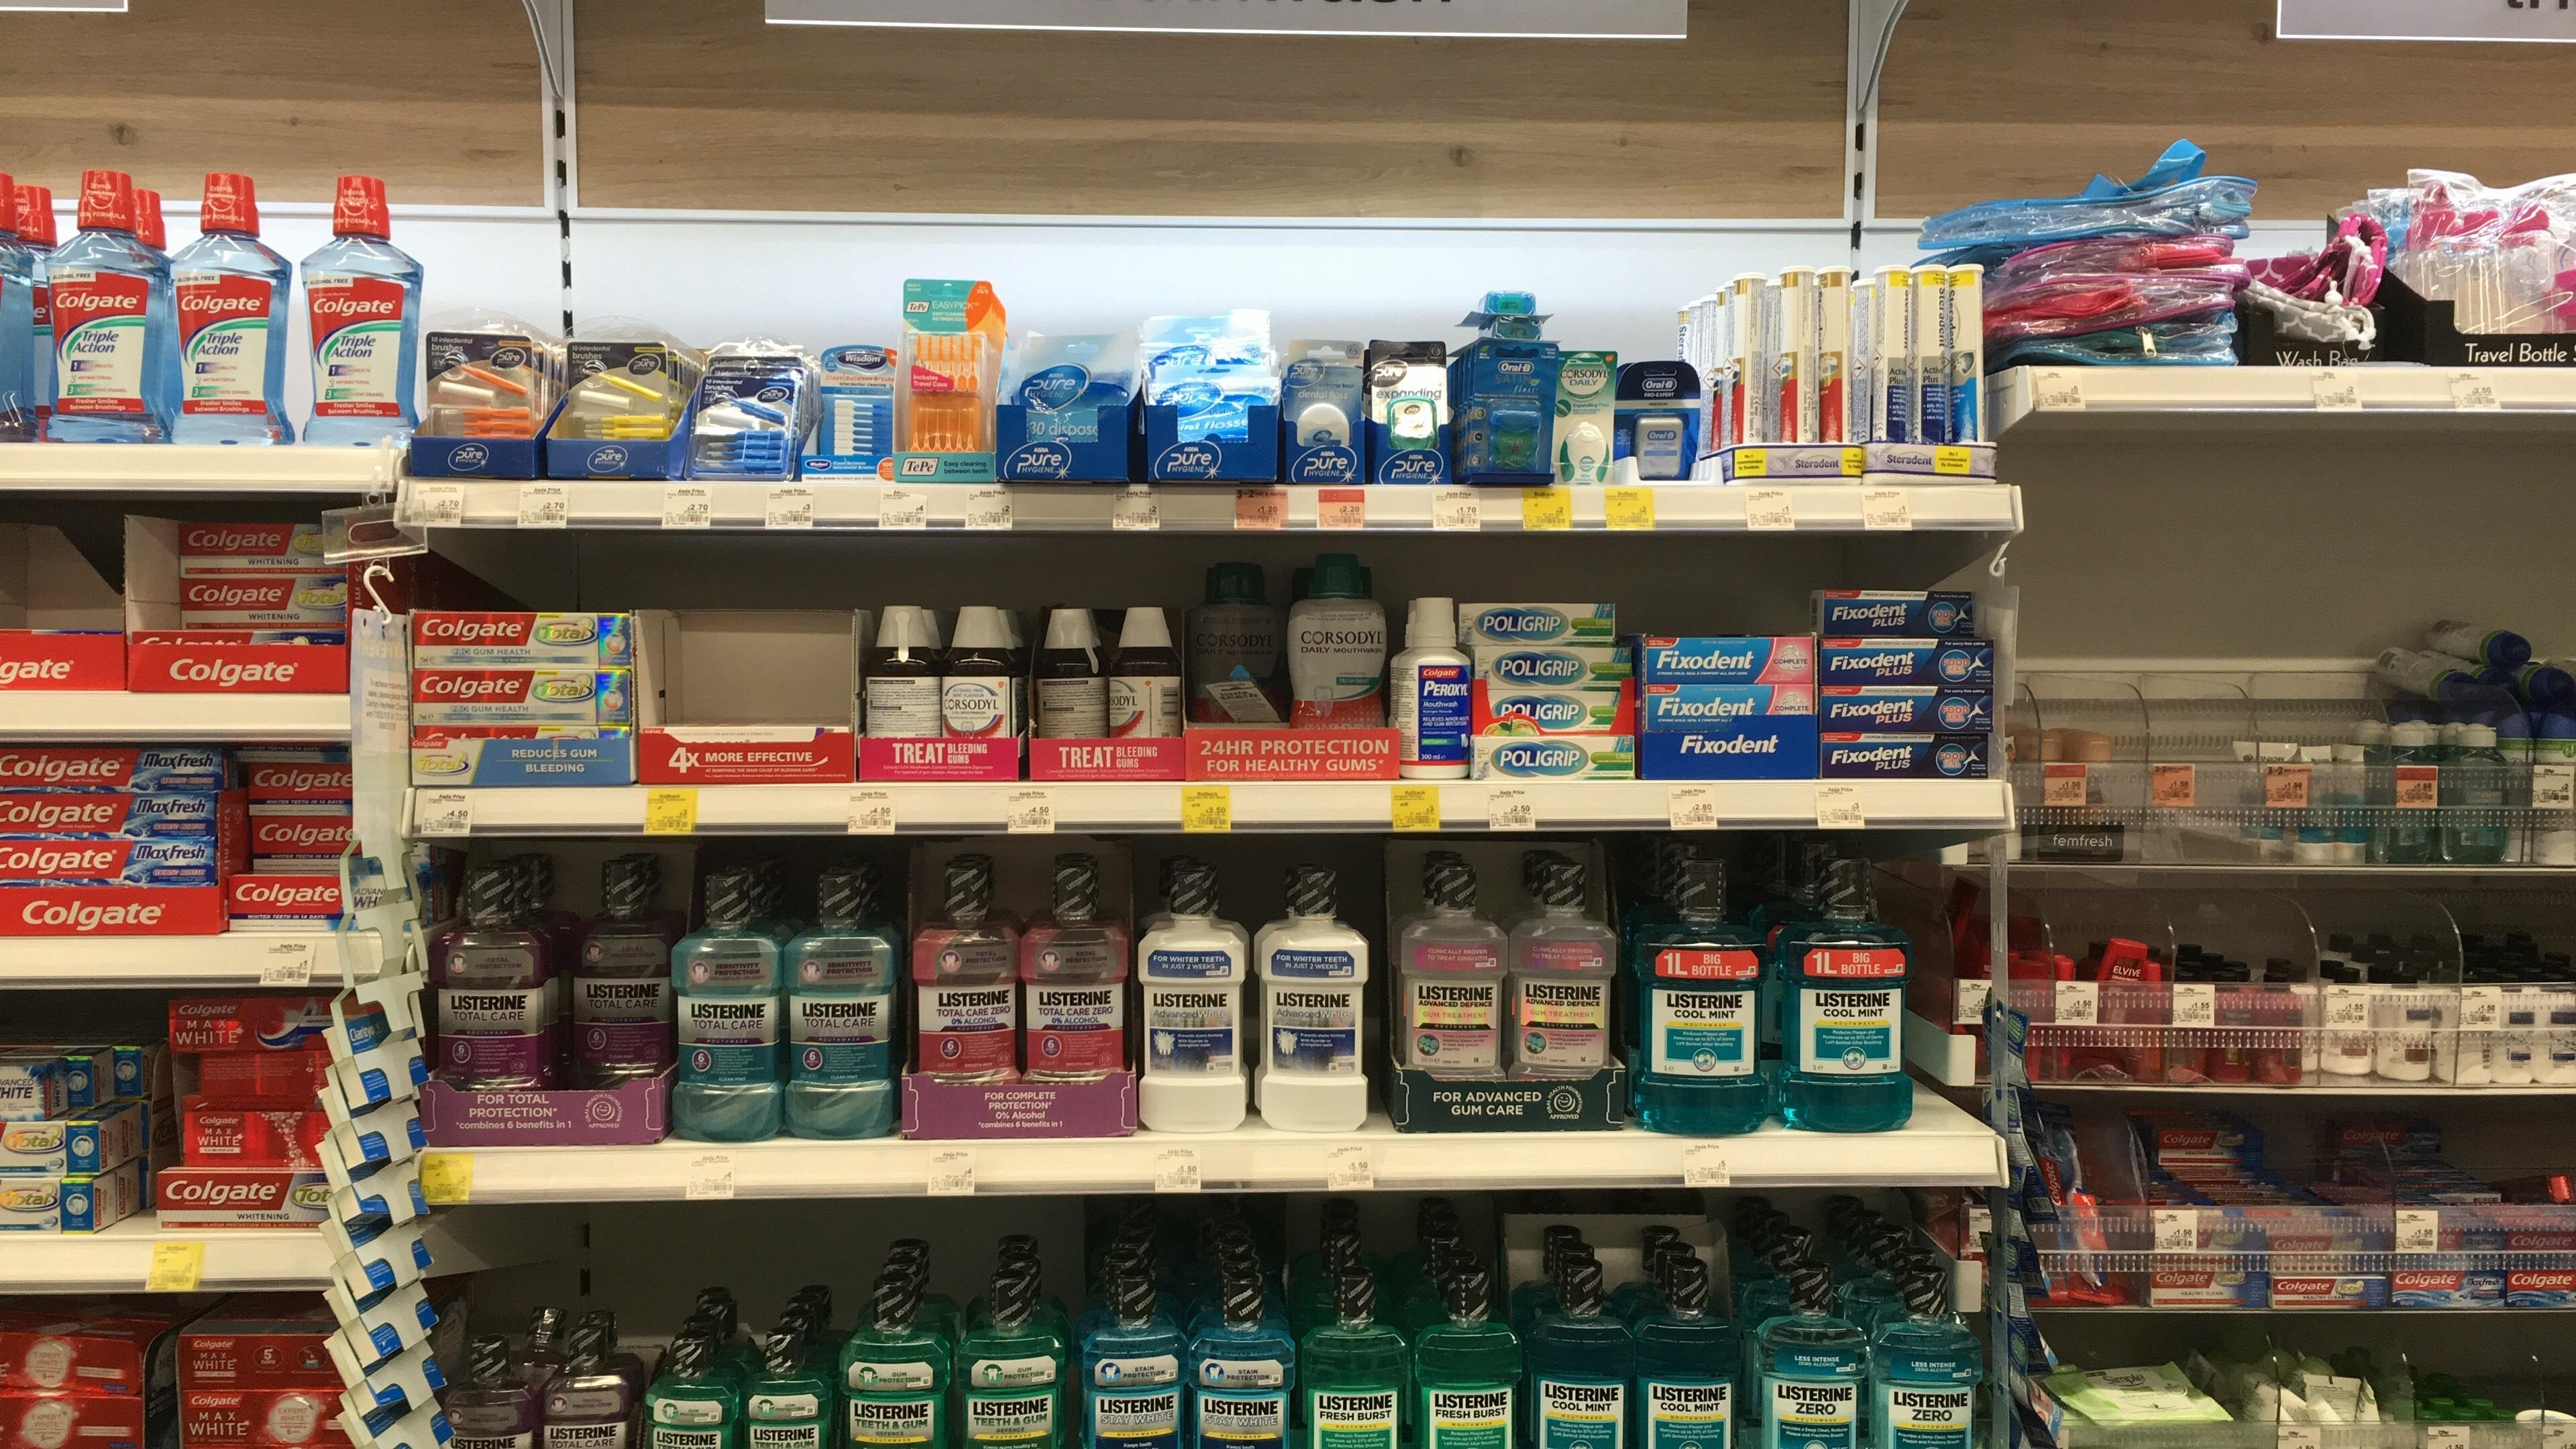misalignment: (2252, 216, 2394, 357), (1451, 274, 1559, 345), (1194, 649, 1288, 727)
